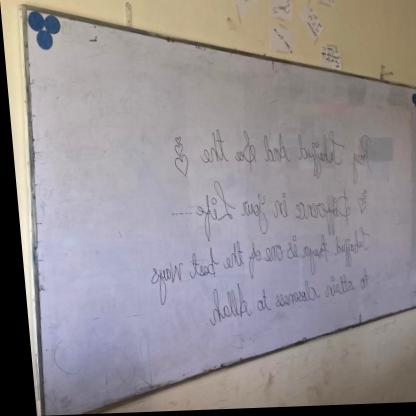Handwritten text: (139, 221, 374, 294), (185, 117, 381, 190), (188, 175, 351, 236)
Whiteboard: (23, 3, 416, 416)
